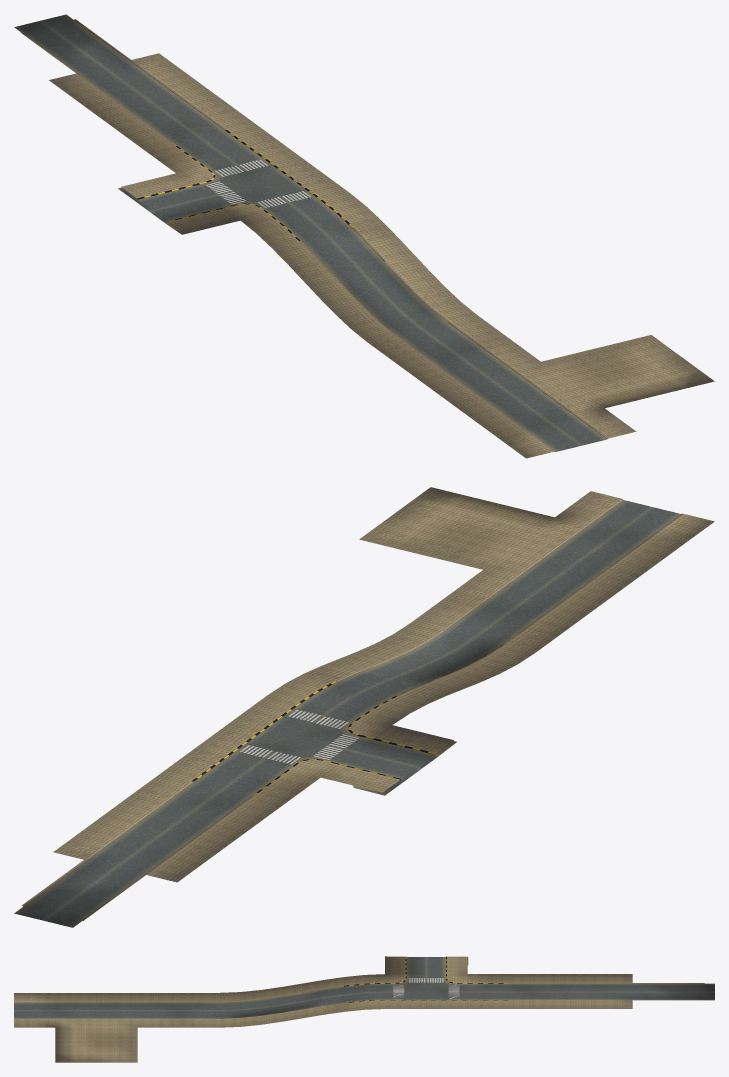
The model's file is M2_ZONE3.glb.
The picture shows the model from 3 angles, top to bottom: view 1: azimuth 30°, elevation 25°; view 2: azimuth 150°, elevation 25°; view 3: azimuth 270°, elevation 25°; orthographic projection. The views are drawn at different scales.
Visible parts, largest first — view 1: M2_ZONE3017, M2_ZONE3019, M2_ZONE3016, M2_ZONE3018, M2_ZONE3015, M2_ZONE3021, M2_ZONE3020, M2_ZONE3014, M2_ZONE3025, M2_ZONE3022, M2_ZONE3013, M2_ZONE3027 (+28 smaller); view 2: M2_ZONE3022, M2_ZONE3025, M2_ZONE3031, M2_ZONE3007, M2_ZONE3001, M2_ZONE3003, M2_ZONE3011, M2_ZONE3024, M2_ZONE3035, M2_ZONE3013, M2_ZONE3029, M2_ZONE3033 (+28 smaller); view 3: M2_ZONE3014, M2_ZONE3016, M2_ZONE3018, M2_ZONE3005, M2_ZONE3025, M2_ZONE3020, M2_ZONE3022, M2_ZONE3, M2_ZONE3002, M2_ZONE3006, M2_ZONE3007, M2_ZONE3008 (+28 smaller).
Part boxes in pixels (<box>): M2_ZONE3017: <box>359,254,444,301</box>; M2_ZONE3019: <box>327,221,412,268</box>; M2_ZONE3016: <box>304,268,389,313</box>; M2_ZONE3018: <box>272,235,357,280</box>; M2_ZONE3015: <box>390,287,476,329</box>; M2_ZONE3021: <box>295,193,381,234</box>; M2_ZONE3020: <box>240,207,325,247</box>; M2_ZONE3014: <box>335,301,421,341</box>; M2_ZONE3025: <box>118,173,207,212</box>; M2_ZONE3022: <box>150,197,239,234</box>; M2_ZONE3013: <box>422,315,508,352</box>; M2_ZONE3027: <box>231,146,317,183</box>; M2_ZONE3022: <box>357,725,456,768</box>; M2_ZONE3025: <box>321,752,420,795</box>; M2_ZONE3031: <box>125,773,222,815</box>; M2_ZONE3007: <box>483,543,580,585</box>; M2_ZONE3001: <box>555,491,652,533</box>; M2_ZONE3003: <box>519,517,616,559</box>; M2_ZONE3011: <box>448,570,544,611</box>; M2_ZONE3024: <box>233,695,329,736</box>; M2_ZONE3035: <box>53,826,150,867</box>; M2_ZONE3013: <box>412,596,508,638</box>; M2_ZONE3029: <box>161,747,257,789</box>; M2_ZONE3033: <box>89,800,186,841</box>; M2_ZONE3014: <box>220,990,261,1010</box>; M2_ZONE3016: <box>261,983,302,1007</box>; M2_ZONE3018: <box>302,977,343,1001</box>; M2_ZONE3005: <box>55,1044,96,1062</box>; M2_ZONE3025: <box>426,956,468,974</box>; M2_ZONE3020: <box>344,974,384,994</box>; M2_ZONE3022: <box>385,956,426,974</box>; M2_ZONE3: <box>14,993,55,1010</box>; M2_ZONE3002: <box>55,993,96,1010</box>; M2_ZONE3006: <box>96,993,137,1010</box>; M2_ZONE3007: <box>96,1010,137,1027</box>; M2_ZONE3008: <box>96,1027,137,1044</box>.
Bounding box in the file's own units: 40.37 × 4.1 × 136.
Materials: 8 (8 with a texture image).
